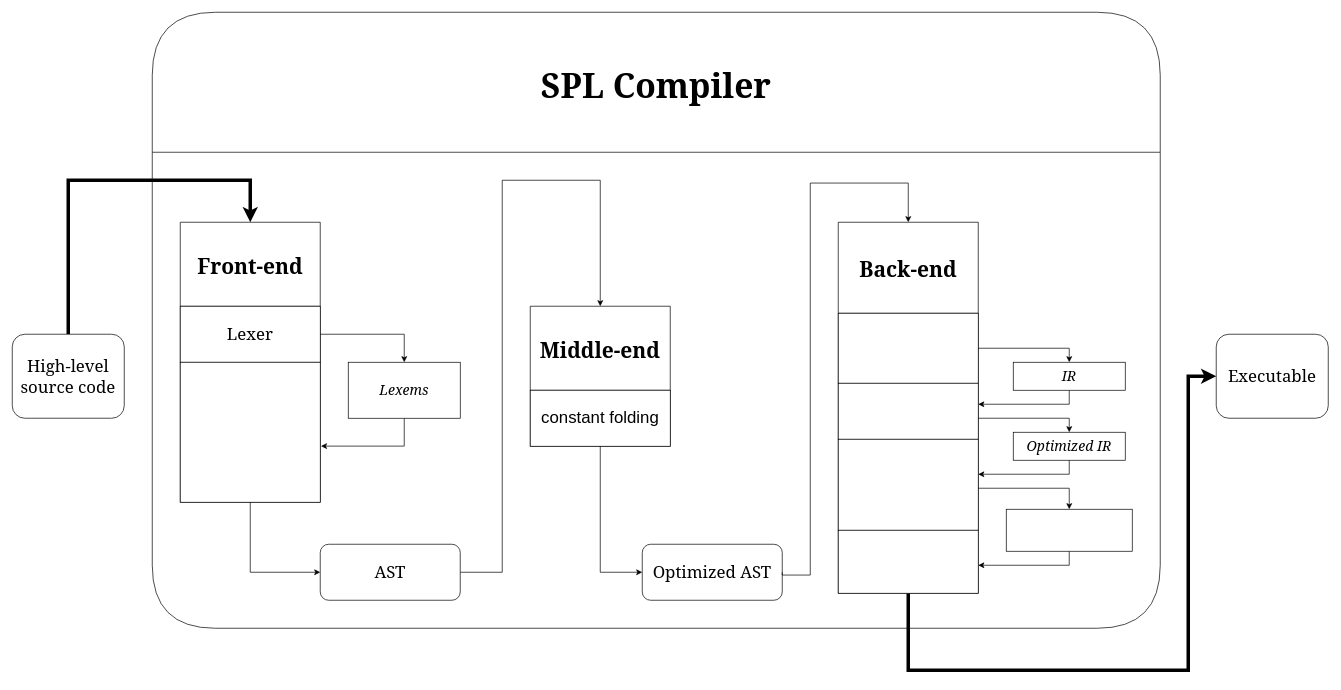
This 1341x690 diagram has some shape labels left out. The centre of each missing label's shape, as x and y in pixels:
"ELF builder" belongs at point 908,561.
"Encoder" belongs at point 908,484.
"IR builder" belongs at point 908,348.
"IR optimization" belongs at point 908,411.
"Syntax analyzer" belongs at point 250,432.
"x86-64 byte-code" belongs at point 1069,530.
